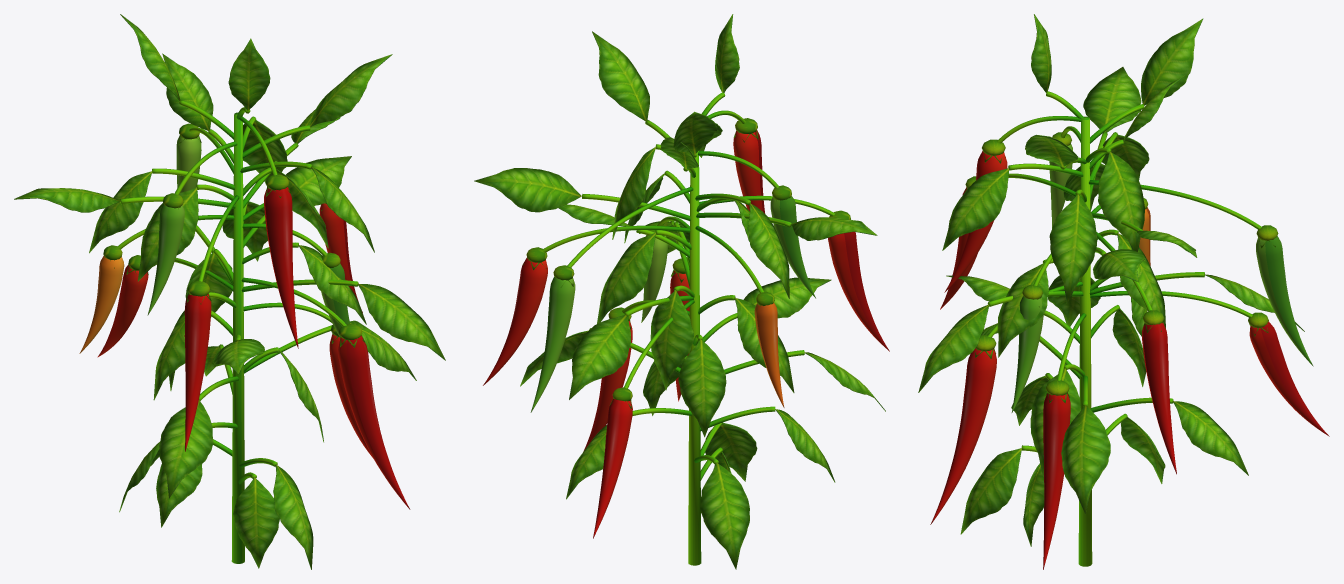
Rendered from NP_ChiliPepper_Ready.fbx.
The picture shows the model from 3 angles, left to right: view 1: azimuth 30°, elevation 25°; view 2: azimuth 150°, elevation 25°; view 3: azimuth 270°, elevation 25°; orthographic projection. The views are drawn at different scales.
Visible parts, largest first — view 1: NP_ChiliPepper_Ready; view 2: NP_ChiliPepper_Ready; view 3: NP_ChiliPepper_Ready.
Boxes of the visible parts, <box> form: NP_ChiliPepper_Ready: <box>14,14,445,569</box>; NP_ChiliPepper_Ready: <box>474,14,889,569</box>; NP_ChiliPepper_Ready: <box>918,14,1329,569</box>.
Bounding box in the file's own units: 91.29 × 124 × 84.94.
